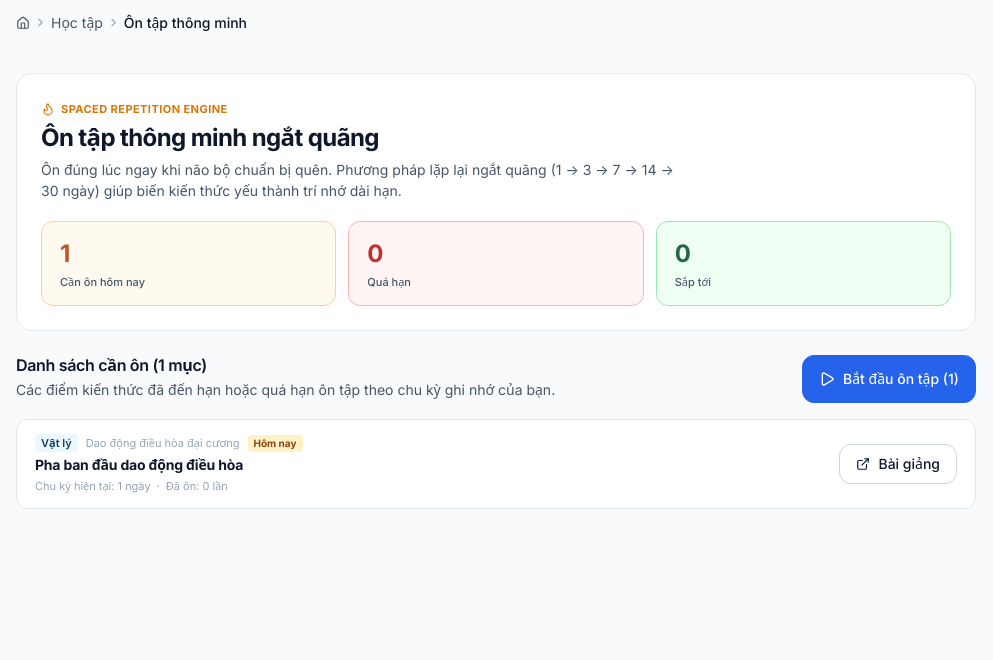
Test: SmartReviewPage › renders review dashboard and starts session when items are due
Expected: the heading "Ôn tập thông minh ngắt quãng" is shown, top-left (41, 123), bottom-right (379, 152)
// Start session
Step 1. Click the button "Bắt đầu ôn tập (1)" → point(889, 379), box top-left (802, 355), bottom-right (976, 403)
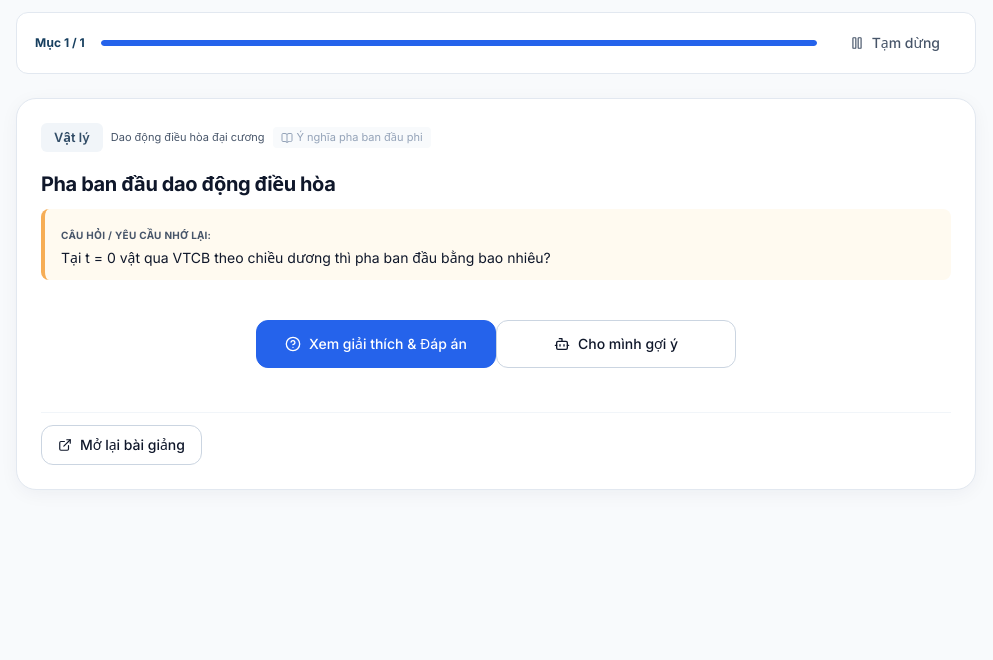
Expected: the heading "Pha ban đầu dao động điều hòa" is shown, top-left (41, 172), bottom-right (335, 196)
Expected: the text "Tại t = 0 vật qua VTCB theo chiều dương thì pha ban đầu bằng bao nhiêu?" is shown, top-left (61, 249), bottom-right (551, 266)
Expected: the text "Xem giải thích & Đáp án" is shown, top-left (309, 337), bottom-right (467, 351)
// Reveal explanation
Step 2. Click the button "Xem giải thích & Đáp án" → point(376, 344), box top-left (256, 320), bottom-right (496, 368)
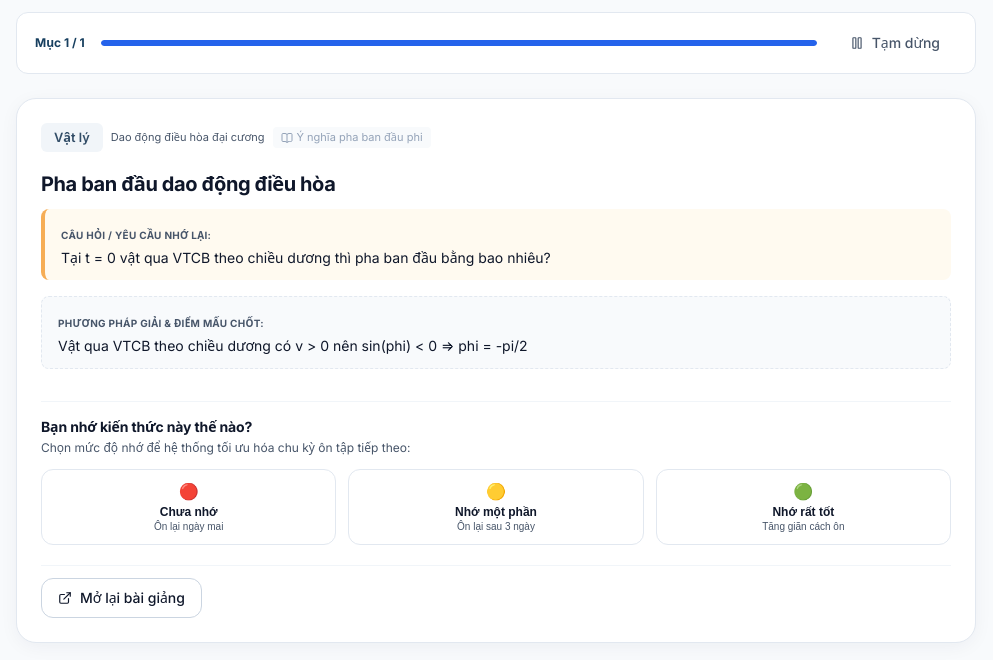
Expected: the text "Vật qua VTCB theo chiều dương có v > 0 nên sin(phi) < 0 => phi = -pi/2" is shown, top-left (58, 337), bottom-right (528, 354)
Expected: the text "Nhớ rất tốt" is shown
Step 3. Click the text "Nhớ rất tốt" → point(803, 512), box top-left (772, 505), bottom-right (834, 519)
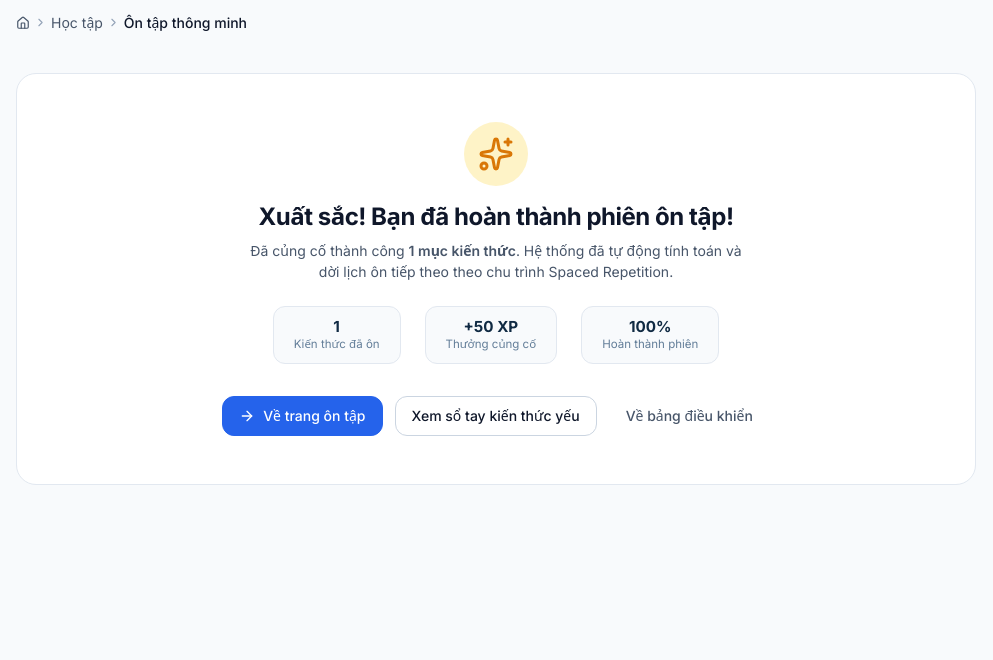
Expected: the heading "Xuất sắc! Bạn đã hoàn thành phiên ôn tập!" is shown, top-left (258, 202), bottom-right (734, 232)
Expected: the text "Về trang ôn tập" is shown, top-left (263, 409), bottom-right (366, 423)
